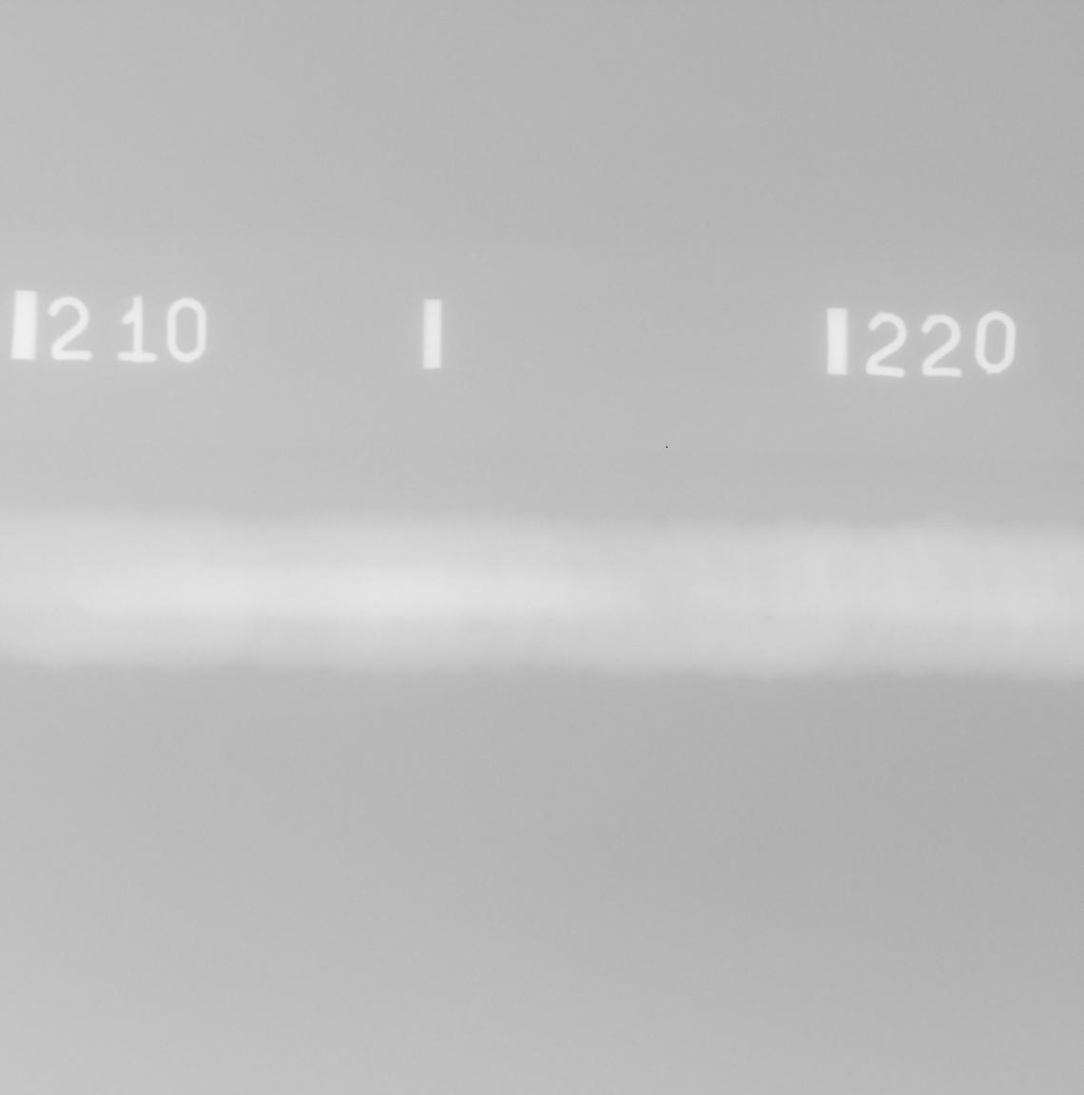Pore/Porosity: (393, 647, 402, 653), (764, 616, 770, 621), (830, 584, 836, 588), (10, 614, 14, 618), (935, 601, 939, 605)
